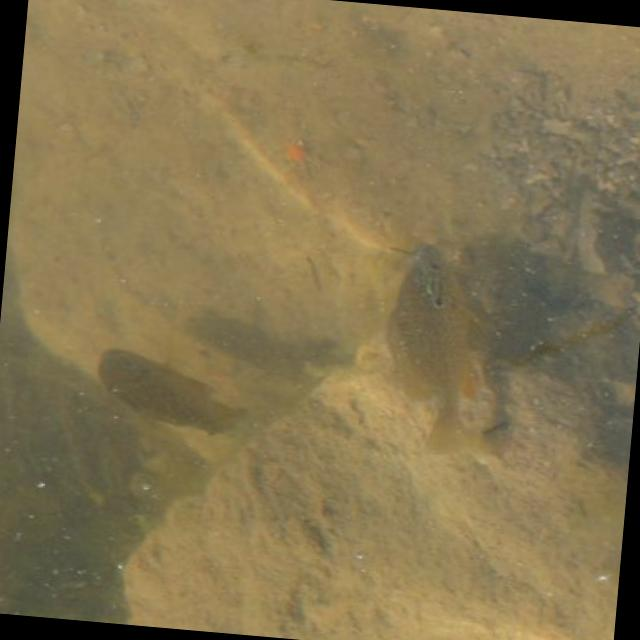Gunes Levregi: (368, 236, 504, 460)
